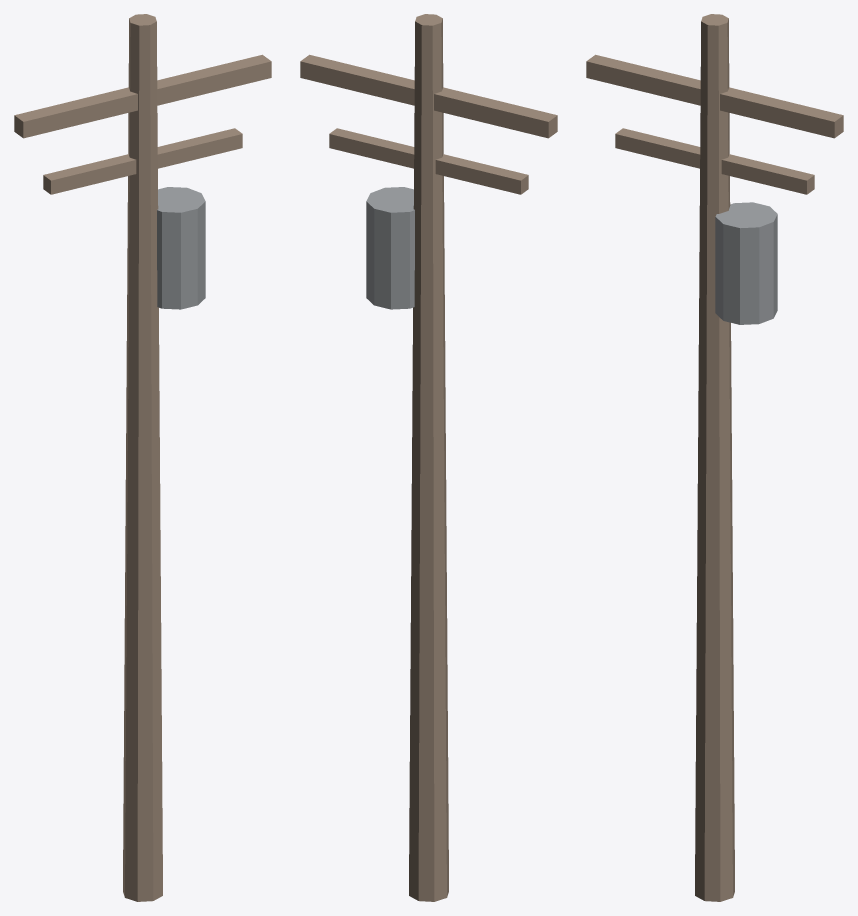
Rendered from prop_utility_pole.glb.
3 views of the same model, side by side, from view 1: azimuth 30°, elevation 25°; view 2: azimuth 150°, elevation 25°; view 3: azimuth 330°, elevation 25° (orthographic).
Visible parts, largest first — view 1: prop_utility_pole; view 2: prop_utility_pole; view 3: prop_utility_pole.
Boxes of the visible parts, <box> form: prop_utility_pole: <box>14,14,271,901</box>; prop_utility_pole: <box>300,14,557,901</box>; prop_utility_pole: <box>586,14,843,901</box>.
Size of the model in its own units: 2.2 by 7.4 by 0.4565.
